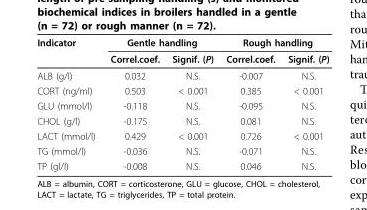table: (36, 36, 328, 171)
table column: (36, 36, 102, 171), (102, 36, 165, 171), (219, 36, 280, 171), (165, 36, 219, 171), (280, 36, 328, 171)
table column header: (36, 36, 328, 67)
table row: (36, 50, 328, 67), (36, 97, 328, 113), (36, 67, 328, 82), (36, 82, 328, 97), (36, 113, 328, 128), (36, 128, 328, 143), (36, 143, 328, 158), (36, 36, 328, 50), (36, 158, 328, 171)
table spanning cell: (36, 36, 102, 67), (102, 36, 219, 50), (219, 36, 328, 50)
